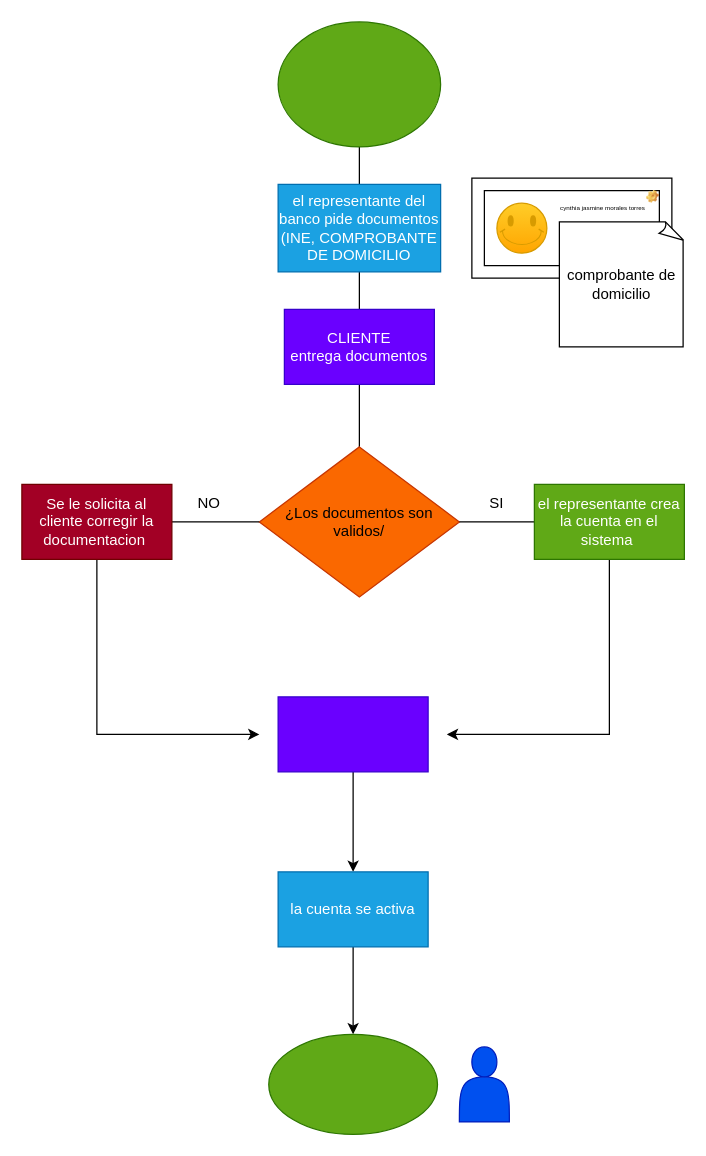
Some shapes in this 706 by 1156 pixel diagram are drawn without their labels. Each missing label, with the box of its shape:
cliente hace el deposito inicial: (277, 696, 428, 772)
FIN se entrega al clienta la cuenta y la tarjeta: (268, 1033, 438, 1134)
INICIO Cliente solicita abrir una cuenta de ahorro: (277, 21, 441, 147)
